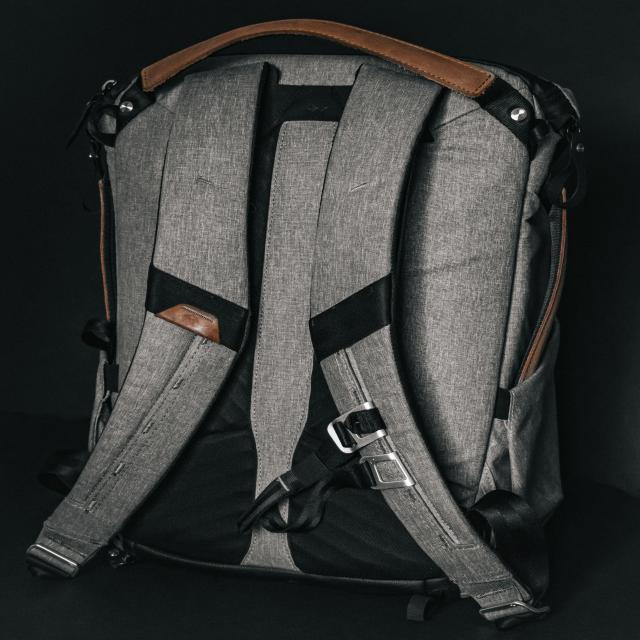backpack: (18, 16, 587, 630)
